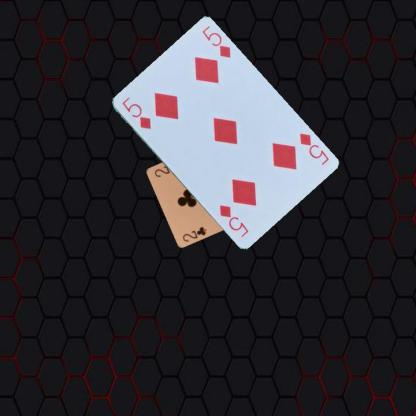2c: (180, 224, 208, 242)
5d: (296, 130, 330, 166), (119, 94, 152, 131)
